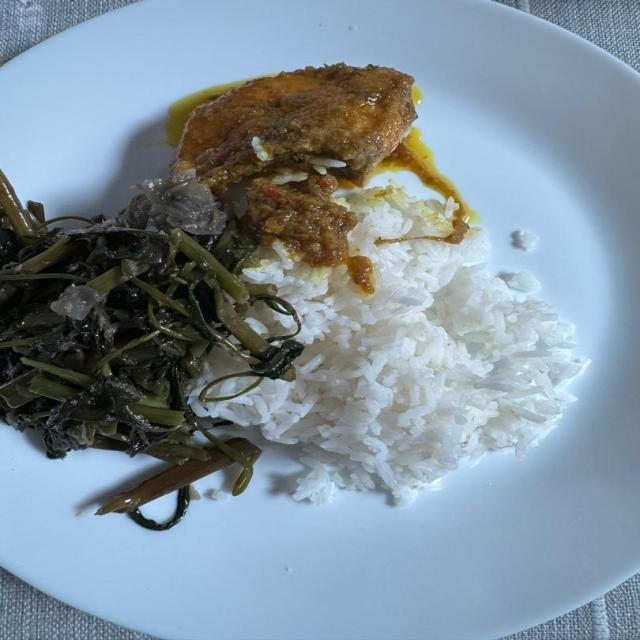Chicken: (172, 63, 415, 191)
Plate: (260, 422, 636, 639)
Rice: (193, 187, 585, 512)
Vegetables: (0, 165, 297, 530)
